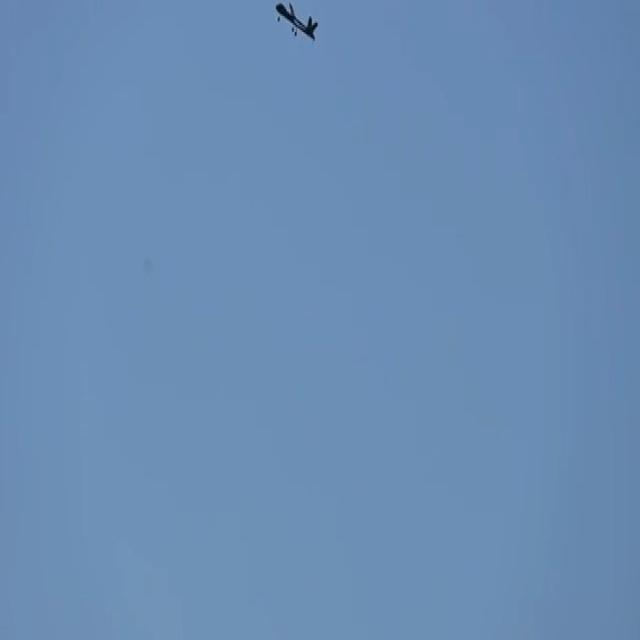iha: (275, 4, 316, 37)
